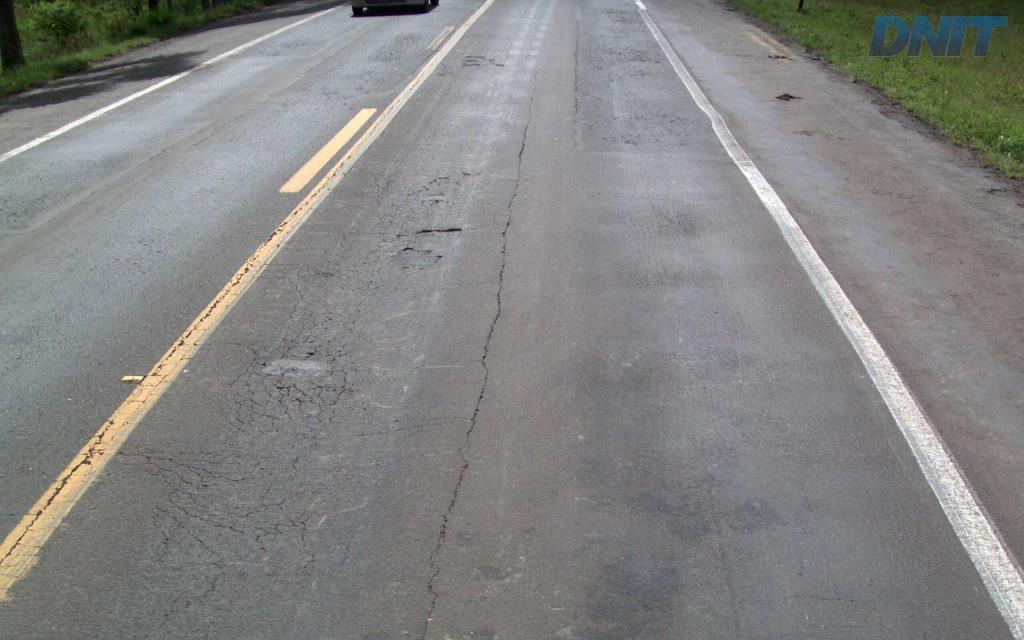pothole: (408, 226, 468, 238)
